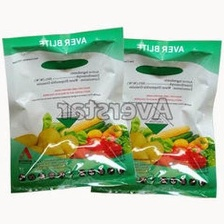insecticide: (0, 24, 140, 197), (88, 37, 222, 200)
